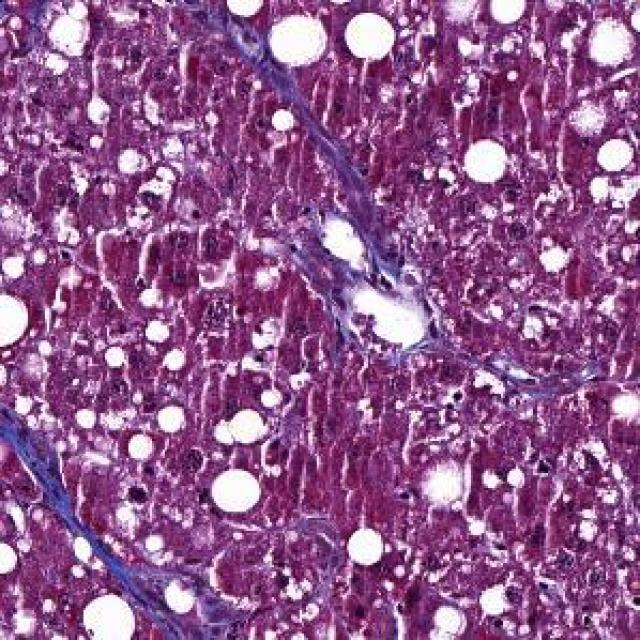fibrosis: (22, 430, 154, 597), (284, 120, 406, 293)
